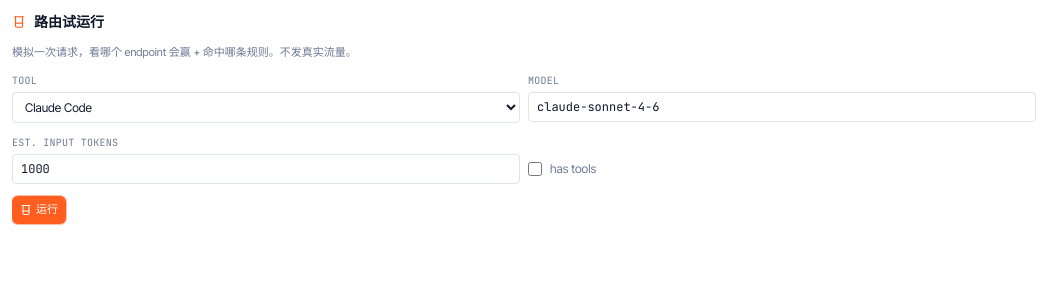
Test: RouterDryRunPanel › shows error when DryRunRouter rejects
The width and height of the screenshot is (1048, 283).
Click the button "运行": (39,210) [12,196,66,224]
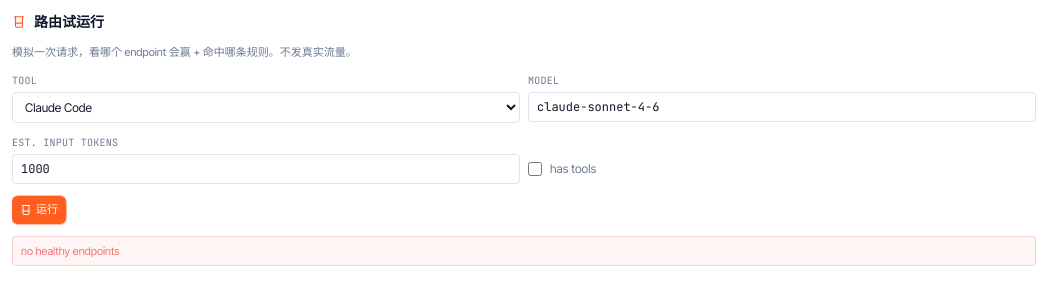
Check: the text "no healthy endpoints" is shown, box [12,236,1036,266]
